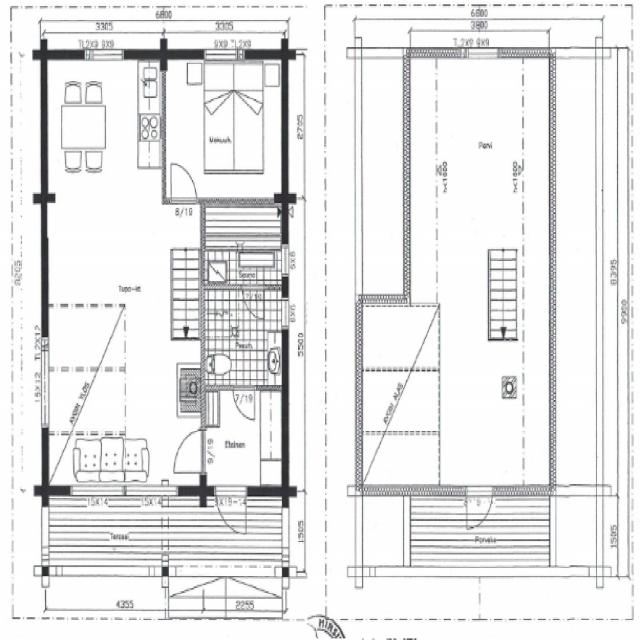door: (216, 486, 246, 539), (172, 429, 205, 472), (467, 485, 493, 533), (171, 160, 197, 204), (233, 385, 254, 420), (243, 284, 264, 318)
